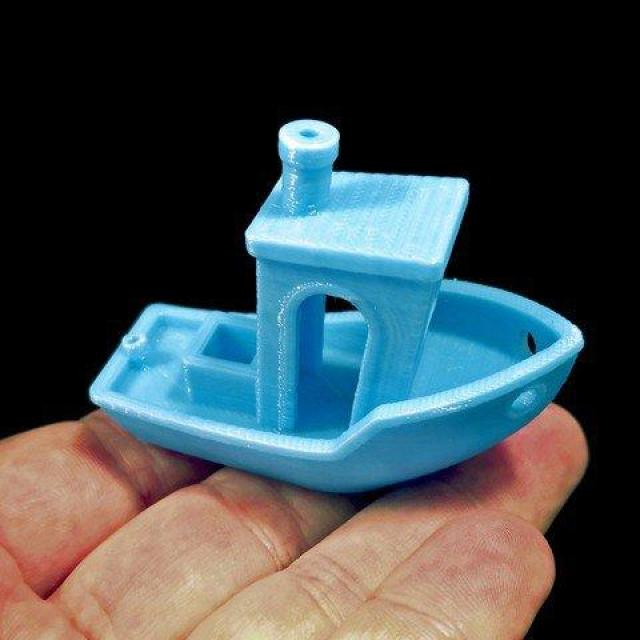Without deffect: (80, 117, 600, 493)
